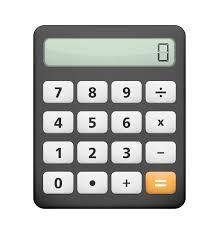Calculator: (27, 22, 191, 214)
